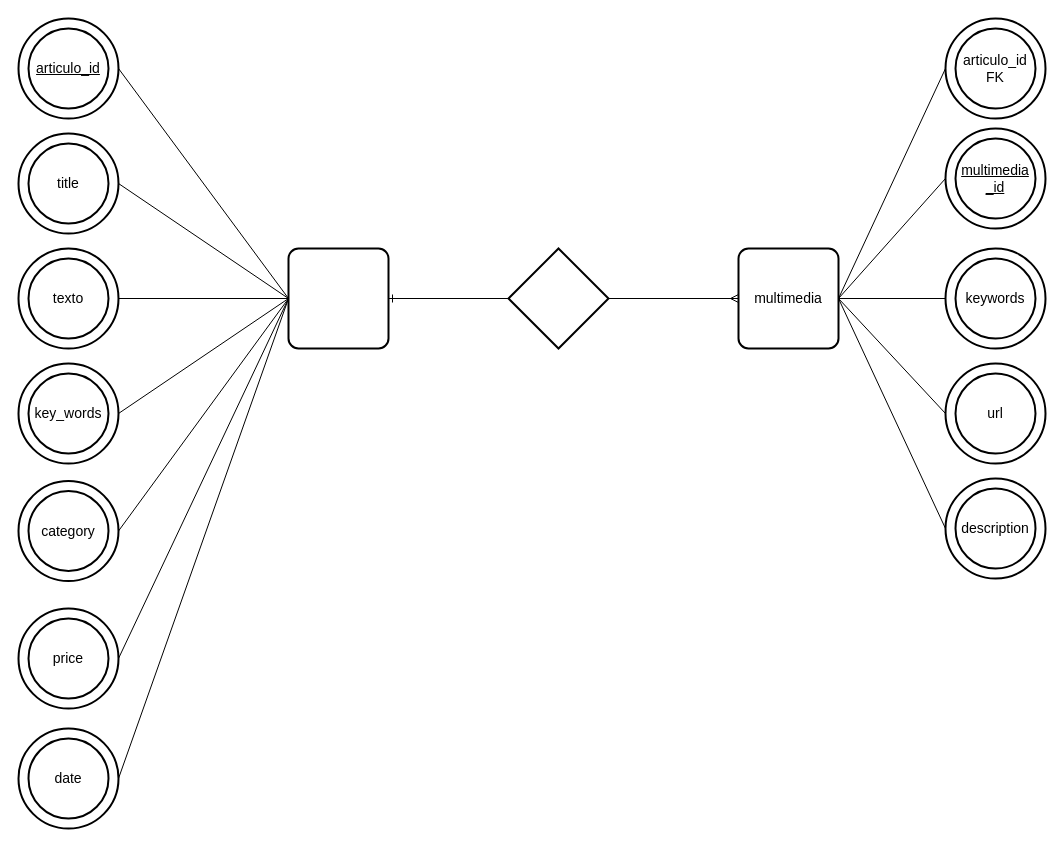
The diagram is 1063 pixels wide and 846 high, and some of its shapes have lost their labels. Here are the shapes that lost their labels. From the top down, the centre of each, then its label:
[338,298]: article
[558,298]: Has
